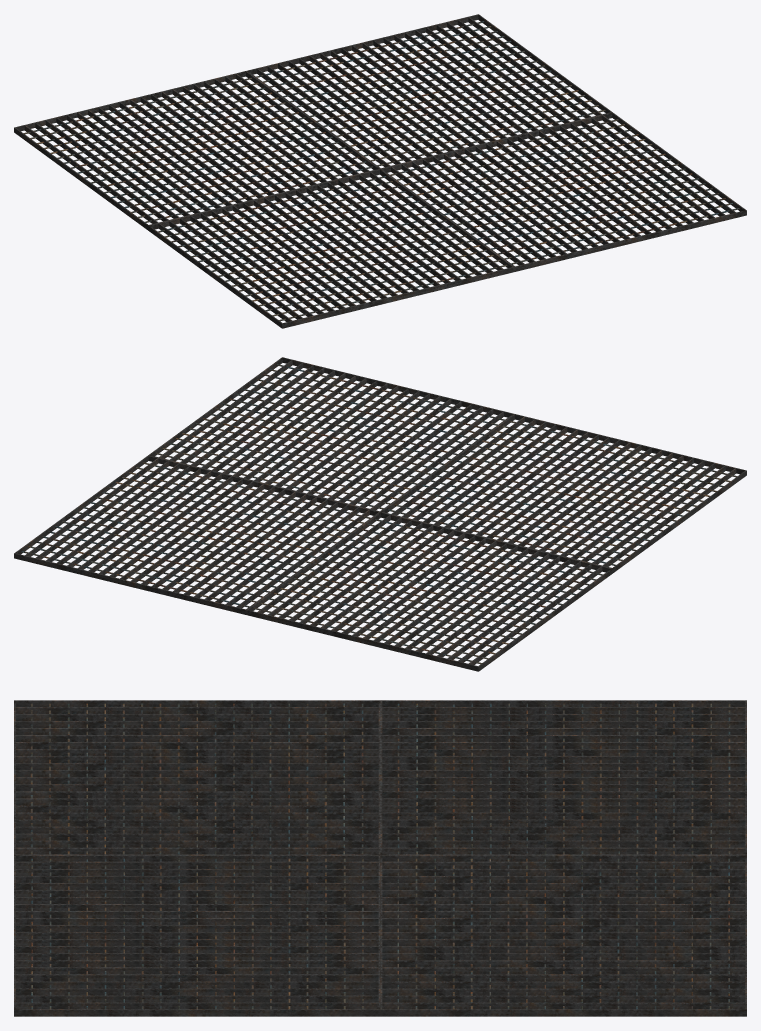
File: Basement_Corridor_C_Grating_Floor_4x4m.glb
3 renders of one model, top to bottom at view 1: azimuth 30°, elevation 25°; view 2: azimuth 150°, elevation 25°; view 3: azimuth 270°, elevation 25°, orthographic. The views are drawn at different scales.
Parts seen in each view (by area): view 1: Basement_Corridor_C_Grating_Floor_4x4m; view 2: Basement_Corridor_C_Grating_Floor_4x4m; view 3: Basement_Corridor_C_Grating_Floor_4x4m.
Part boxes in pixels (x1,y1,x2,y2): Basement_Corridor_C_Grating_Floor_4x4m: (14,14,746,328); Basement_Corridor_C_Grating_Floor_4x4m: (14,357,746,671); Basement_Corridor_C_Grating_Floor_4x4m: (14,700,746,1016).
Bounding box in the file's own units: 4 × 0.04 × 4.
2 materials, 2 textured.
